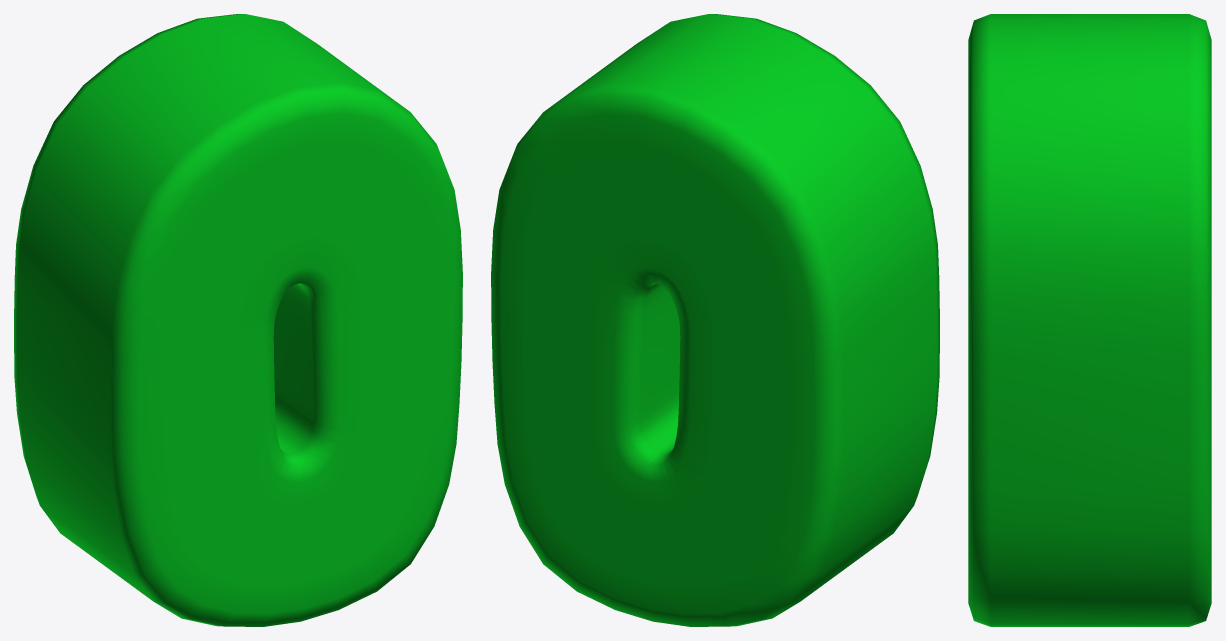
The picture shows the model from 3 angles, left to right: view 1: azimuth 30°, elevation 25°; view 2: azimuth 150°, elevation 25°; view 3: azimuth 270°, elevation 25°; orthographic projection. The views are drawn at different scales.
Visible parts, largest first — view 1: A:Mesh_numbers_0; view 2: A:Mesh_numbers_0; view 3: A:Mesh_numbers_0.
Boxes of the visible parts, x1=… form: A:Mesh_numbers_0: x1=14, y1=14, x2=462, y2=626; A:Mesh_numbers_0: x1=491, y1=14, x2=939, y2=626; A:Mesh_numbers_0: x1=968, y1=14, x2=1211, y2=626.
Size of the model in its own units: 23.78 by 34.69 by 13.53.
